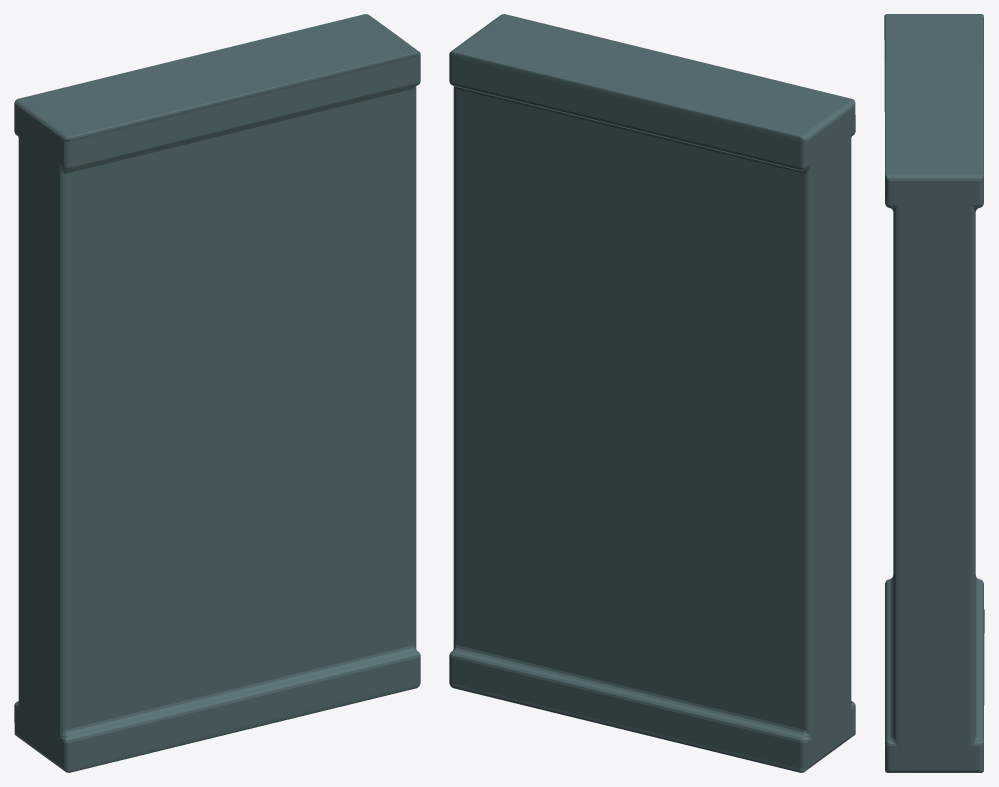
Rendered from wall mini.fbx.
3 renders of one model, left to right at view 1: azimuth 30°, elevation 25°; view 2: azimuth 150°, elevation 25°; view 3: azimuth 270°, elevation 25°, orthographic. The views are drawn at different scales.
Parts seen in each view (by area): view 1: wall mini; view 2: wall mini; view 3: wall mini.
Boxes of the visible parts, box(x1,y1,x2,y2) form: wall mini: box(14, 14, 420, 772); wall mini: box(449, 14, 855, 772); wall mini: box(884, 14, 984, 772).
Size of the model in its own units: 182 by 308 by 46.83.
